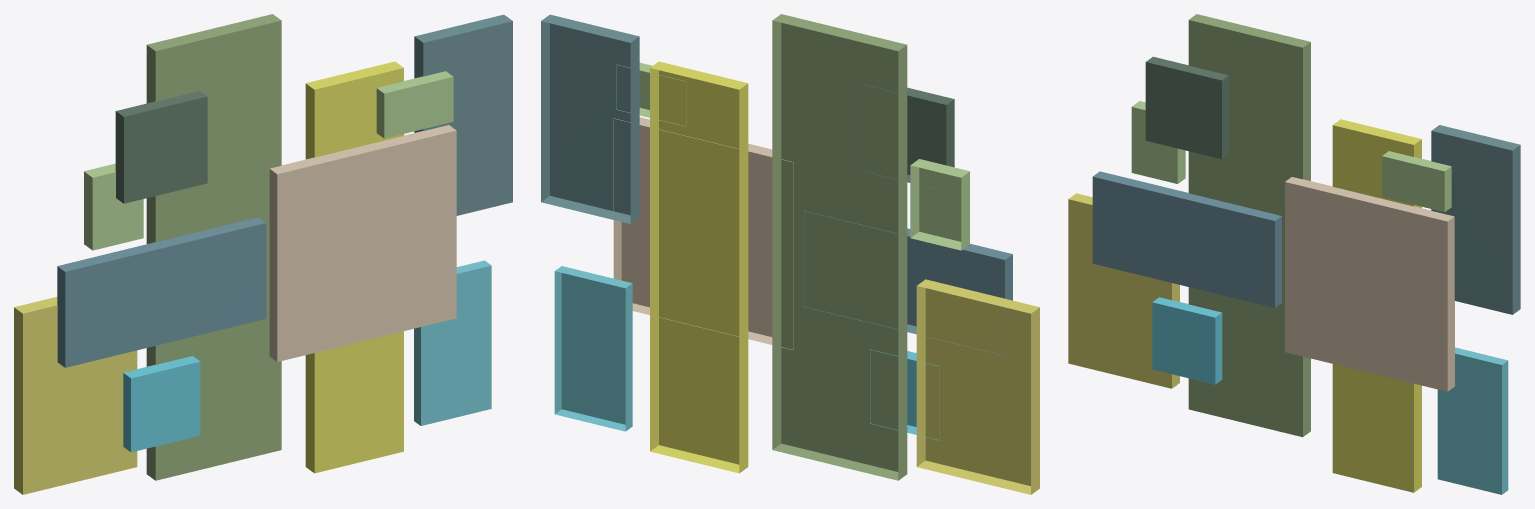
The model's file is SO_picture09.fbx.
3 renders of one model, left to right at view 1: azimuth 30°, elevation 25°; view 2: azimuth 150°, elevation 25°; view 3: azimuth 330°, elevation 25°, orthographic. The views are drawn at different scales.
Parts seen in each view (by area): view 1: SO_pictures09; view 2: SO_pictures09; view 3: SO_pictures09.
Part boxes in pixels (x1=…): SO_pictures09: x1=14, y1=14, x2=512, y2=494; SO_pictures09: x1=541, y1=14, x2=1039, y2=494; SO_pictures09: x1=1068, y1=14, x2=1520, y2=494.
Size of the model in its own units: 80.56 by 72.41 by 5.55.
